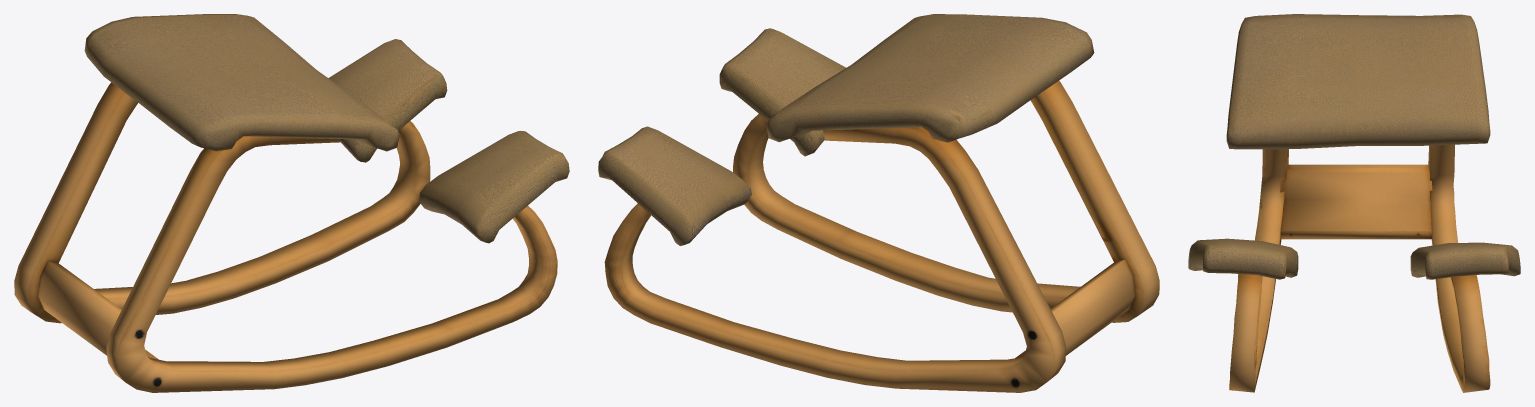
The model's file is rocking_2.glb.
3 renders of one model, left to right at view 1: azimuth 30°, elevation 25°; view 2: azimuth 150°, elevation 25°; view 3: azimuth 270°, elevation 25°, orthographic. The views are drawn at different scales.
Visible parts, largest first — view 1: tripo_node_32a0c1c6-96aa-4c5b-a85f-fbb5e7b92107; view 2: tripo_node_32a0c1c6-96aa-4c5b-a85f-fbb5e7b92107; view 3: tripo_node_32a0c1c6-96aa-4c5b-a85f-fbb5e7b92107.
Part boxes in pixels (box(x1,y1,x2,y2)): tripo_node_32a0c1c6-96aa-4c5b-a85f-fbb5e7b92107: box(14, 14, 569, 392); tripo_node_32a0c1c6-96aa-4c5b-a85f-fbb5e7b92107: box(598, 14, 1159, 392); tripo_node_32a0c1c6-96aa-4c5b-a85f-fbb5e7b92107: box(1188, 14, 1520, 392).
Size of the model in its own units: 0.998 by 0.6582 by 0.7441.
Materials: 1 (1 with a texture image).
